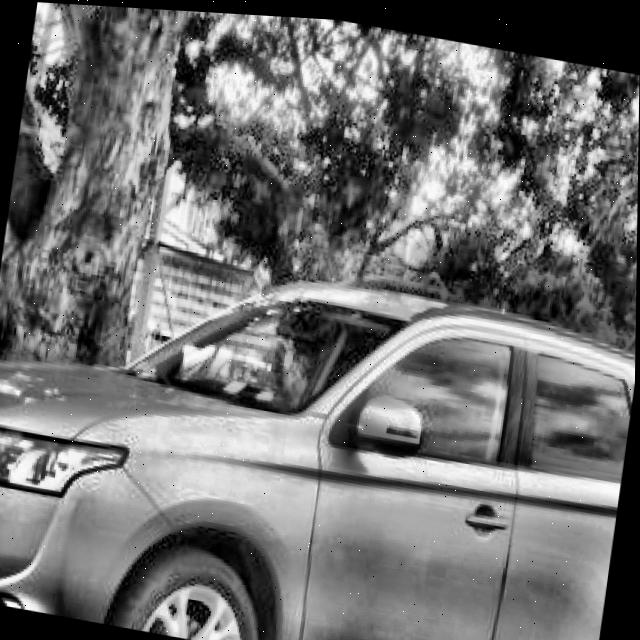light_vehicle: (0, 217, 637, 640)
